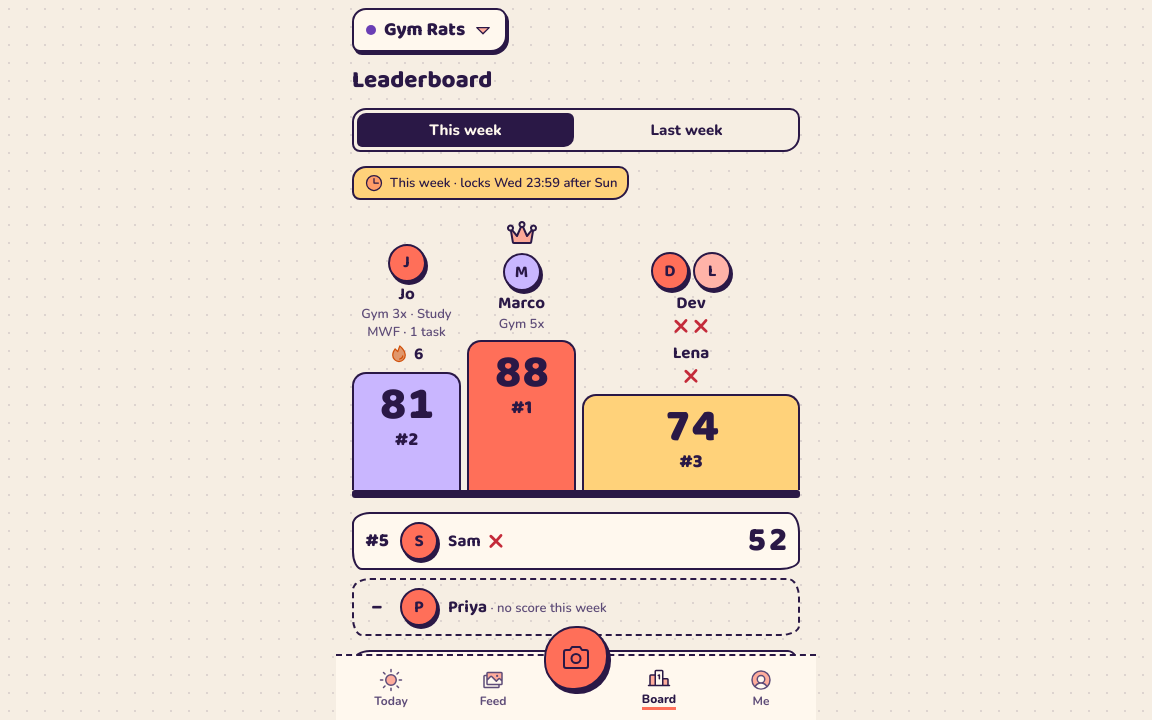
Test: Board (Story 4.3) › Mon-Wed before last week locks: the switch shows Last week with its chip and marks
Click the radio button labelled "Last week" at {"x": 686, "y": 130}, box [578,113,795,147]
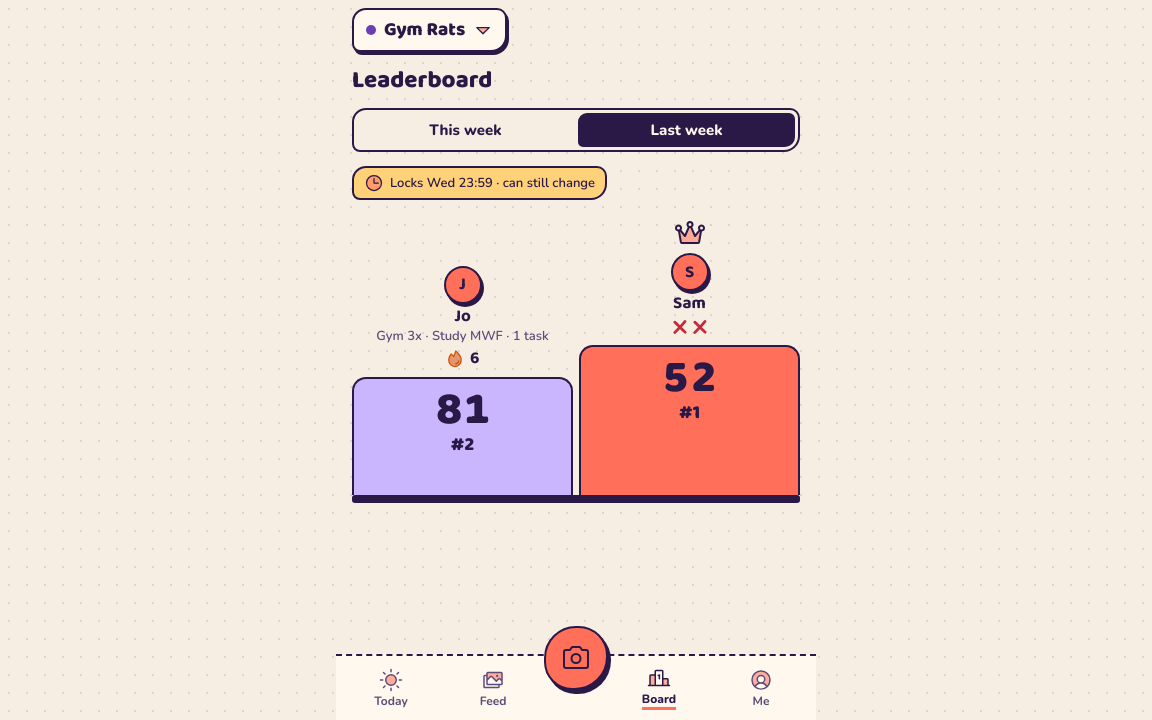
Now the text "Locks Wed 23:59 · can still change" is shown, box [390,175,595,192]
# Arrow keys move back.
Press Arrowleft
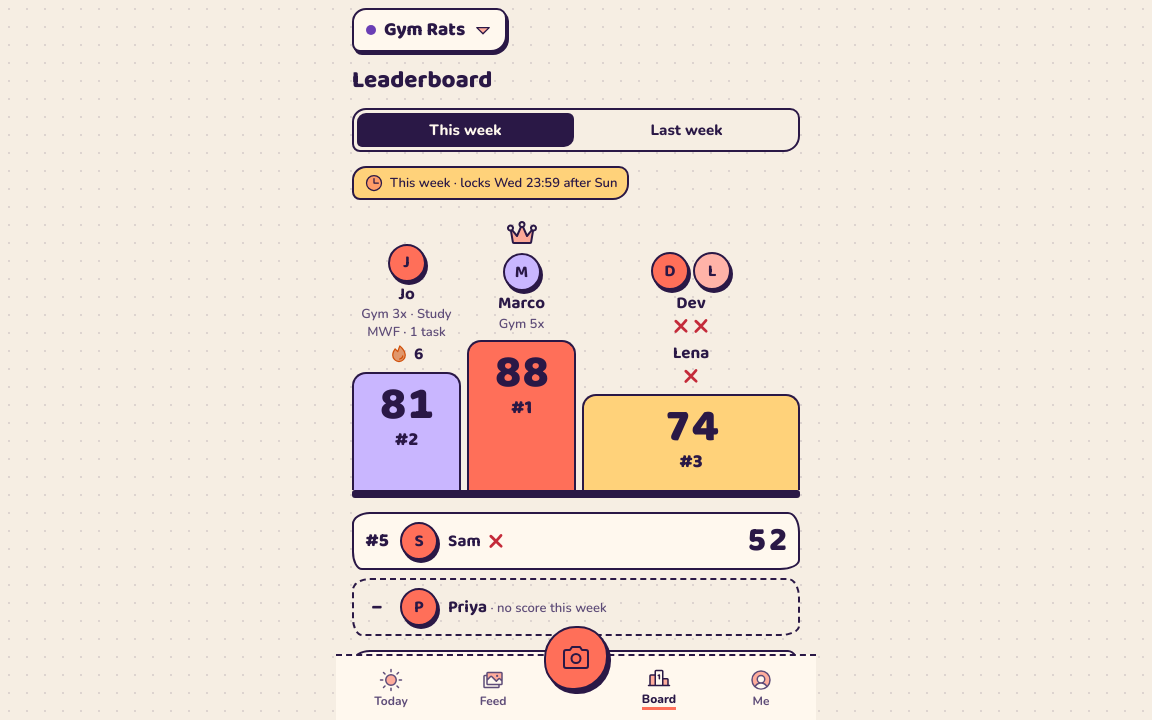
Now the list named "This week's podium" is shown, box [352,218,800,490]
